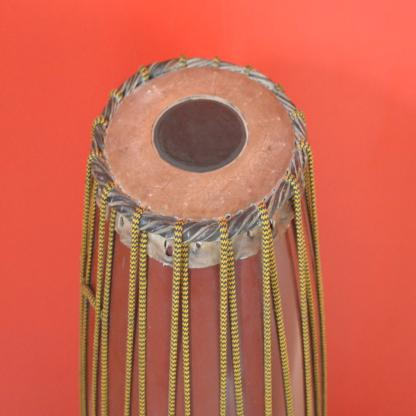Mridangam: (67, 44, 332, 416)
